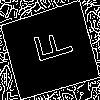F: (24, 25, 74, 68)
